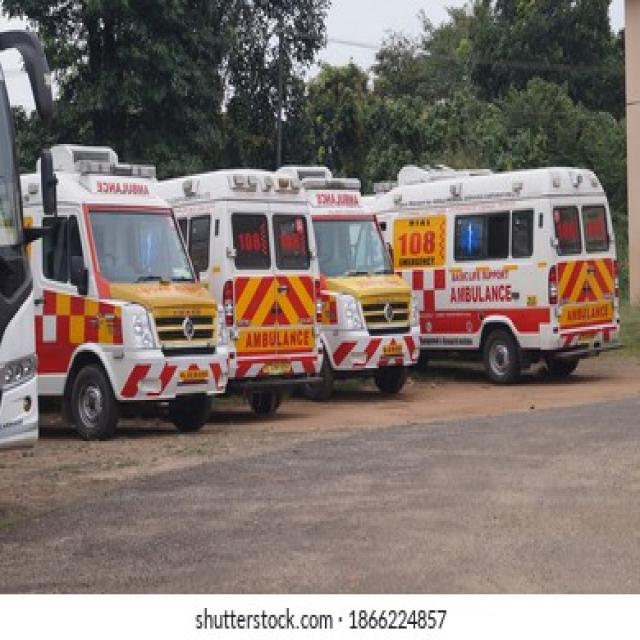ambulance: (17, 143, 226, 440), (383, 165, 622, 361), (158, 165, 324, 396), (286, 164, 422, 380)
